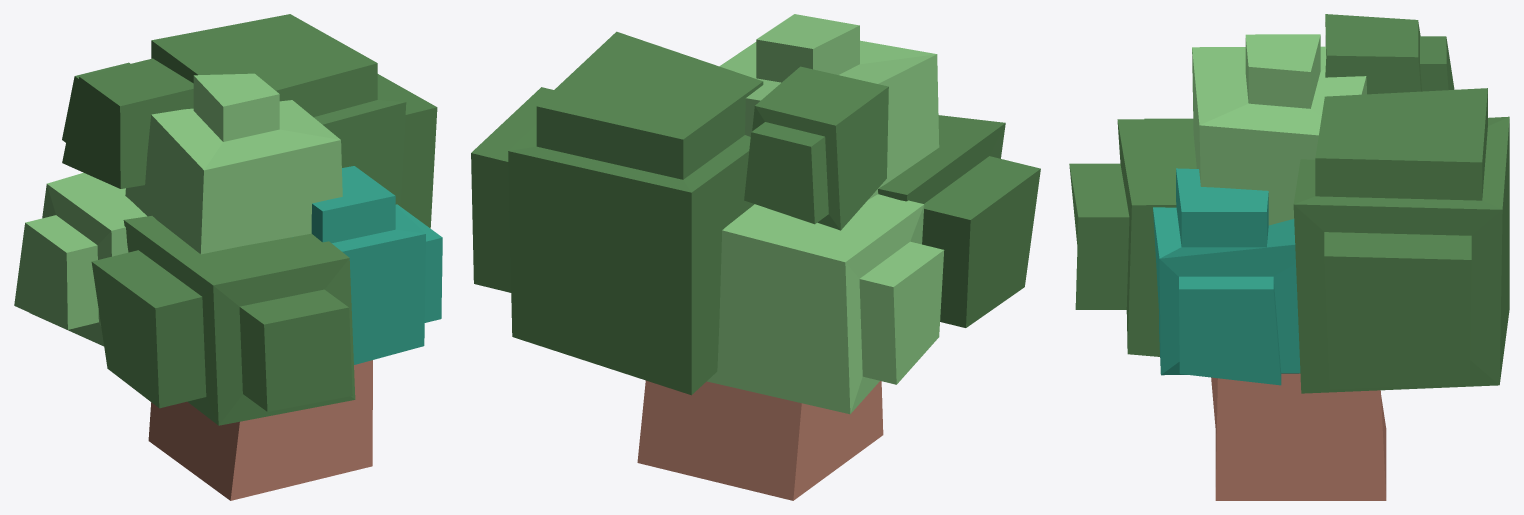
The model's file is shrub1.fbx.
3 views of the same model, side by side, from view 1: azimuth 30°, elevation 25°; view 2: azimuth 150°, elevation 25°; view 3: azimuth 270°, elevation 25° (orthographic). The views are drawn at different scales.
Visible parts, largest first — view 1: shrub1; view 2: shrub1; view 3: shrub1.
Part boxes in pixels (x1=…): shrub1: x1=14, y1=14, x2=442, y2=500; shrub1: x1=471, y1=14, x2=1040, y2=500; shrub1: x1=1069, y1=14, x2=1509, y2=500.
Bounding box in the file's own units: 86.71 × 85.53 × 85.05.
